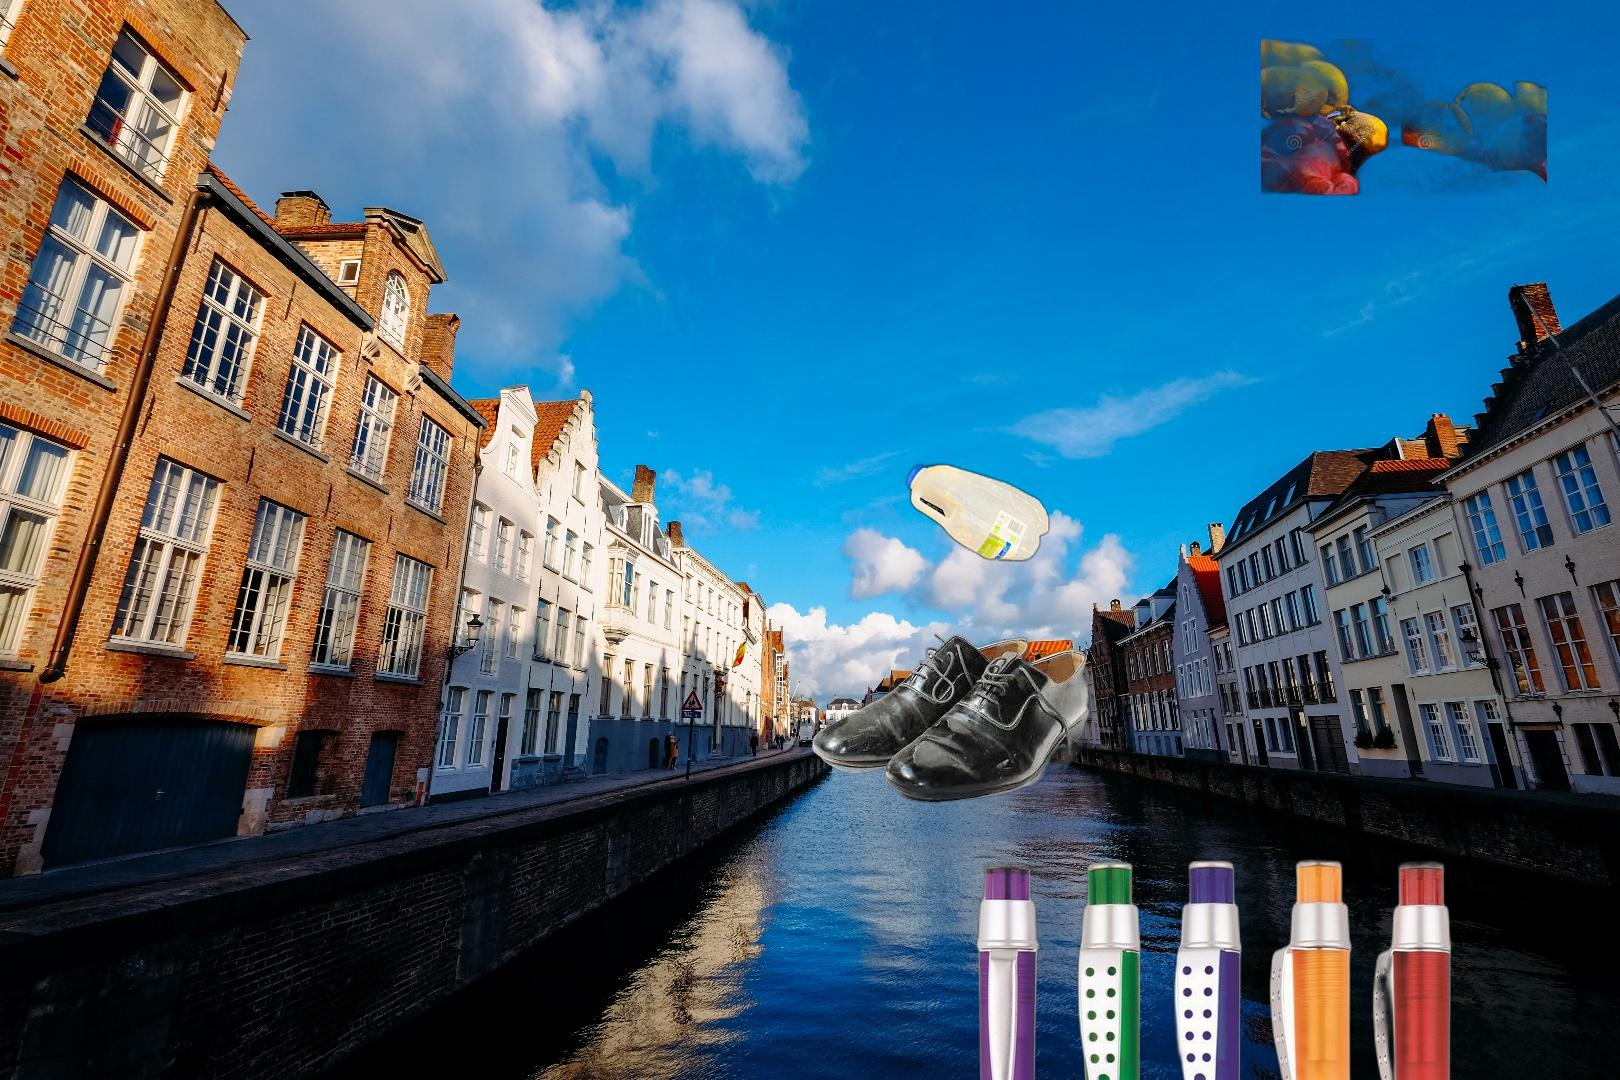biological: (1261, 39, 1546, 215)
penholder: (972, 855, 1481, 1080)
plastic-bottles: (755, 458, 1053, 785)
shoes: (809, 629, 1093, 805)
